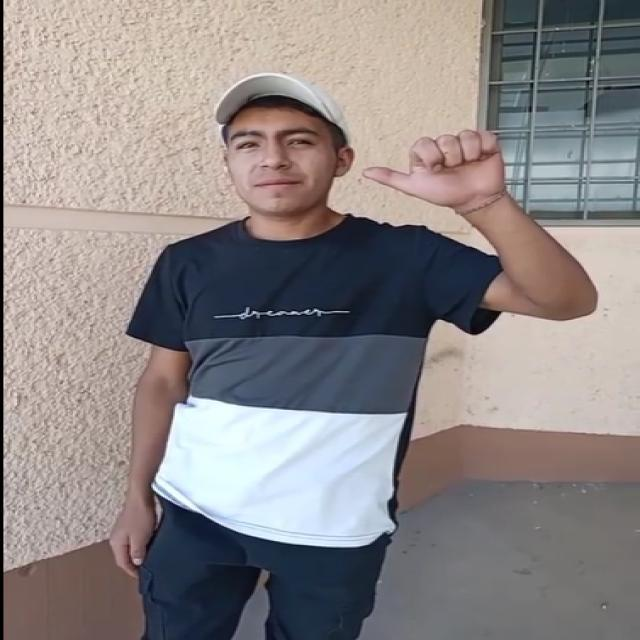A: (361, 118, 541, 235)
